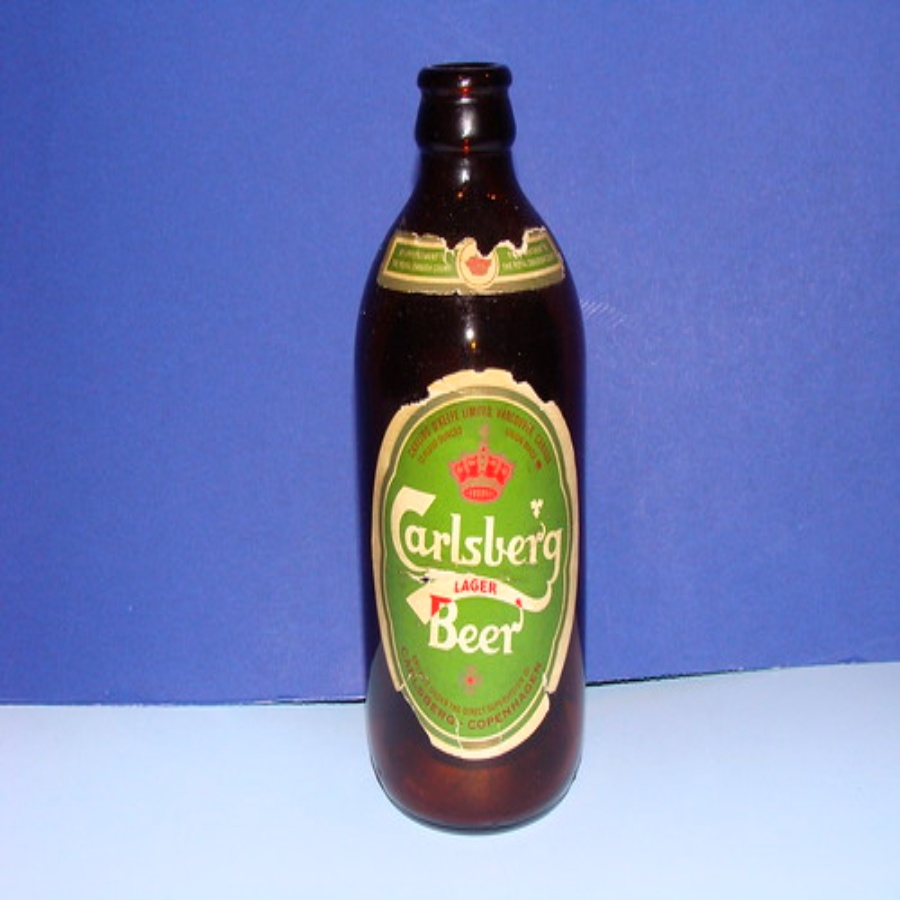beer: (307, 43, 624, 841)
